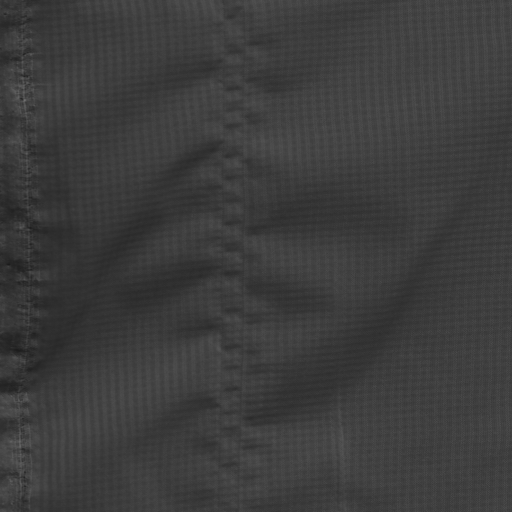defect: (235, 1, 250, 512), (215, 1, 229, 509)
